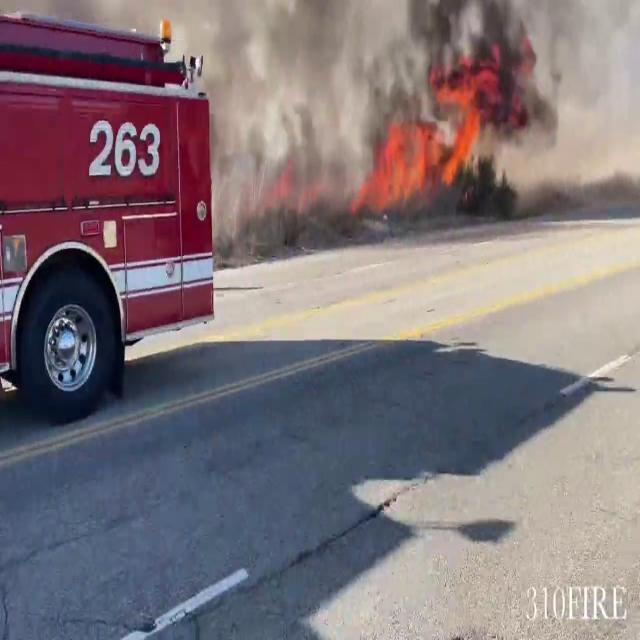Fire: (364, 44, 496, 218)
Smoke: (202, 1, 637, 222)
